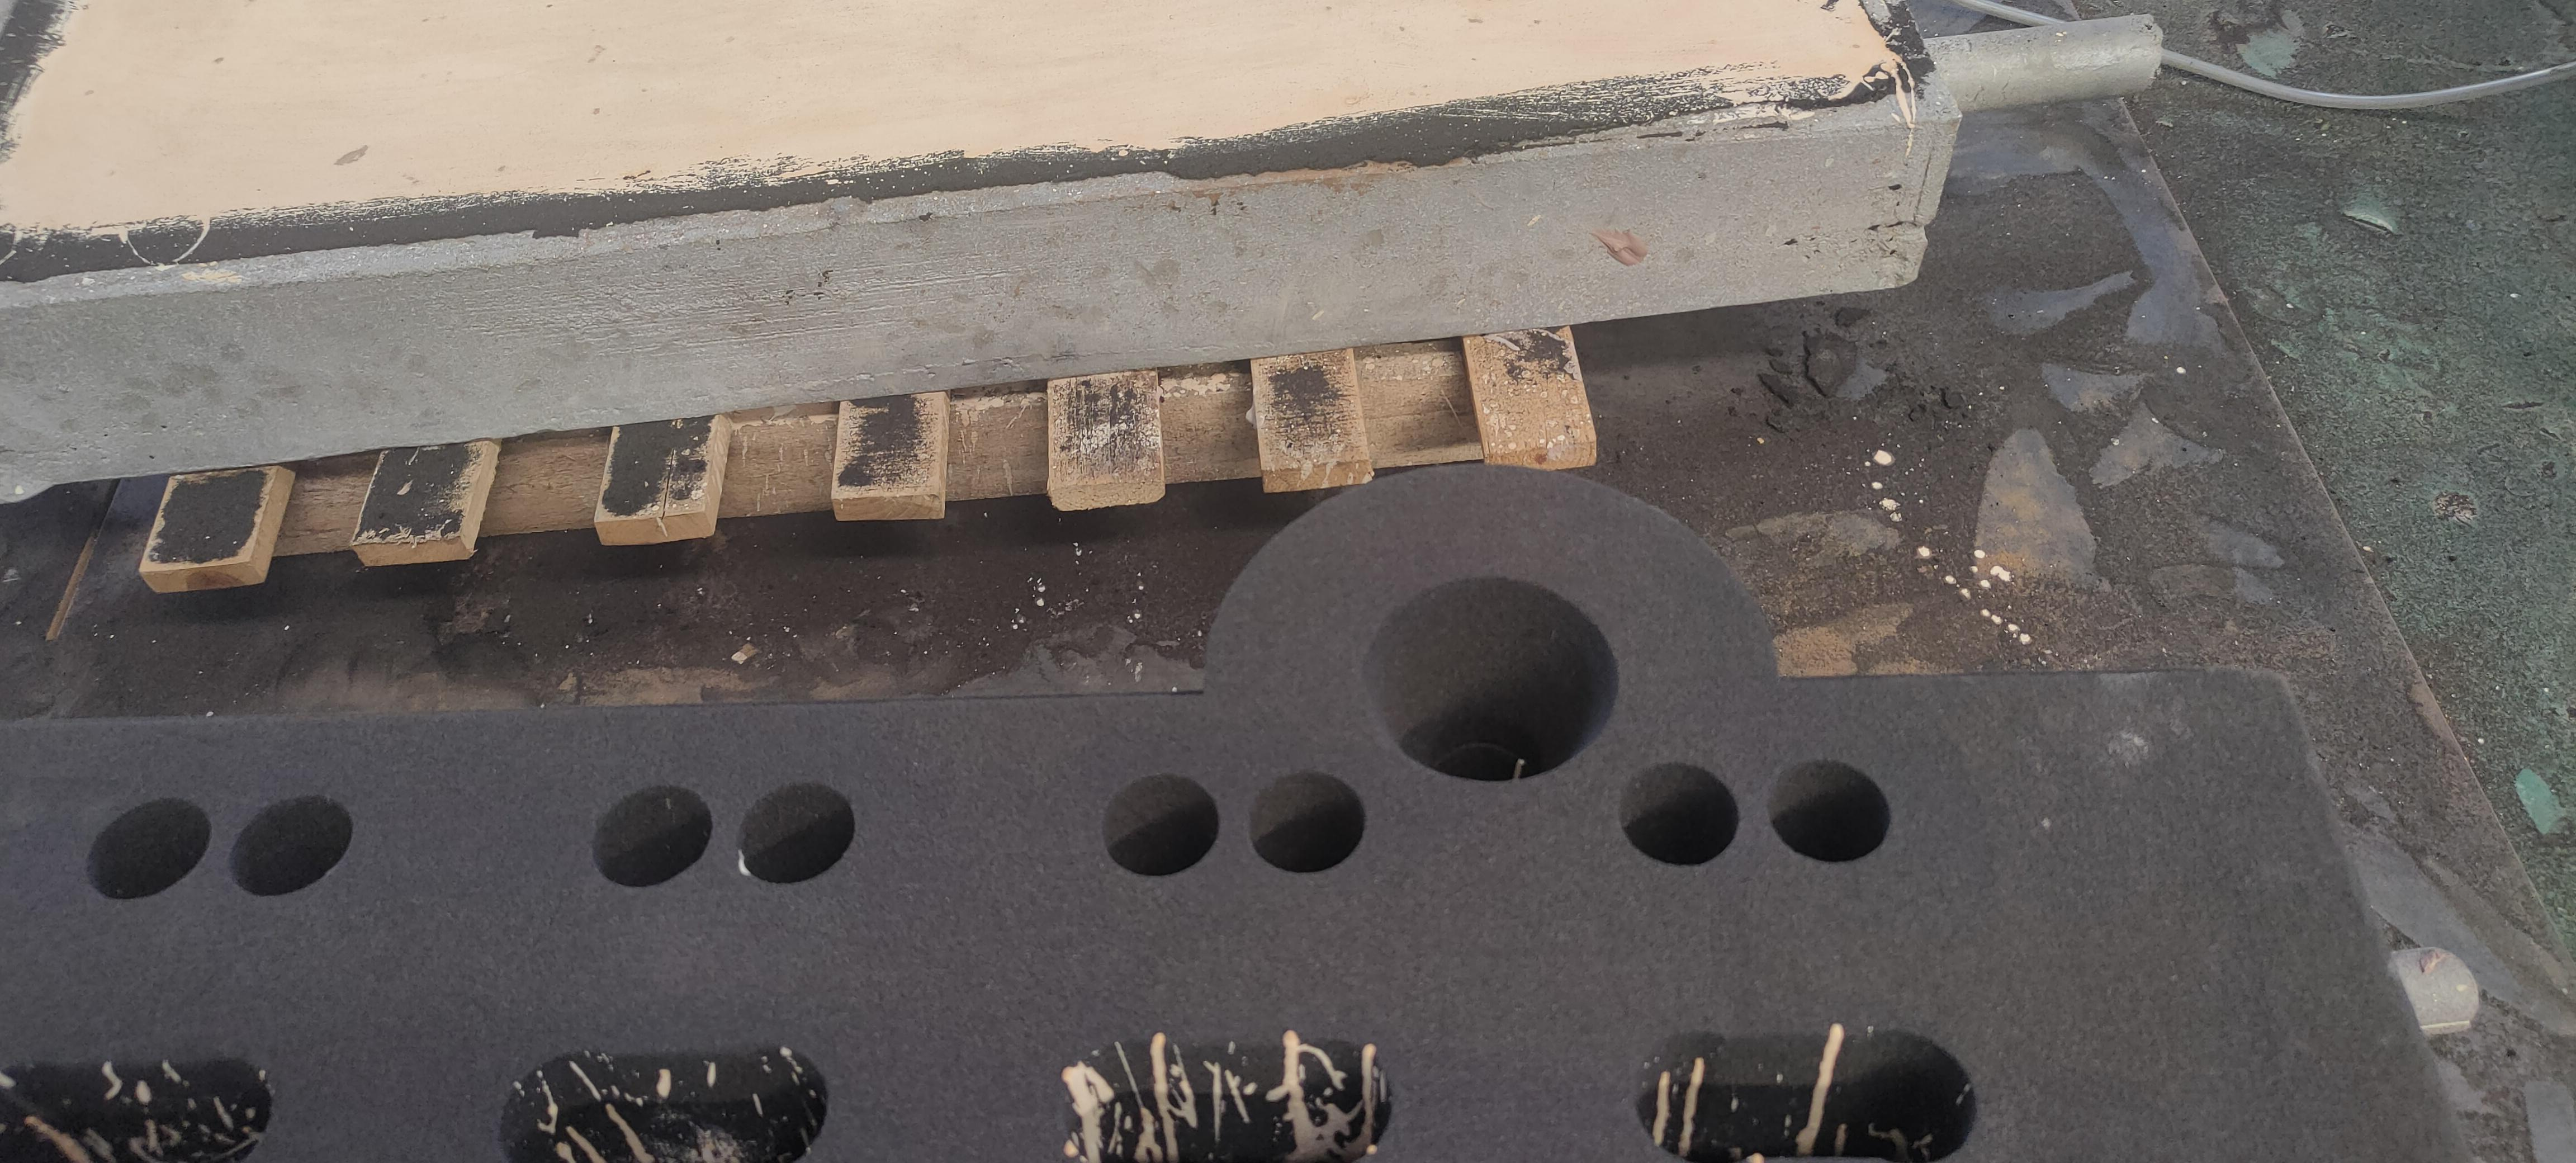pouring hole: (1362, 578, 1620, 782)
